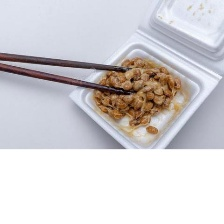foam_box: (64, 0, 224, 148)
